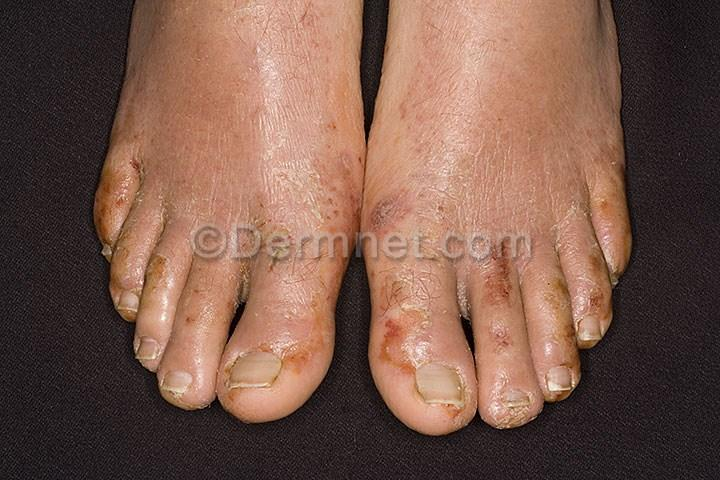Eczema: (237, 347, 338, 394), (369, 307, 434, 375), (255, 331, 304, 386), (353, 202, 408, 247), (85, 180, 125, 225), (479, 396, 533, 429), (539, 312, 582, 353), (585, 278, 620, 318), (113, 246, 144, 282), (146, 260, 176, 295), (604, 180, 620, 215)
